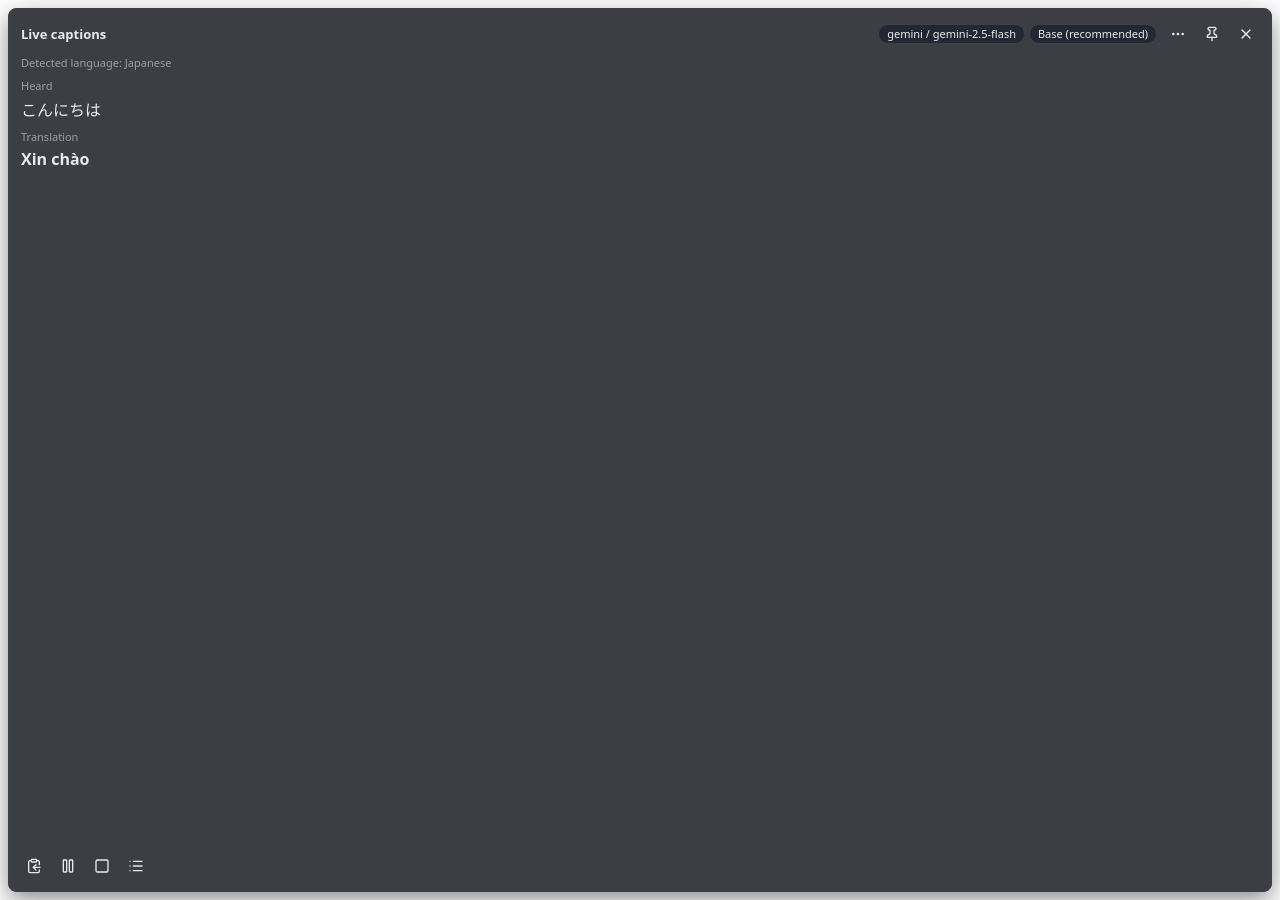
Test case: CaptionOverlayView - pause / resume / stop (item 2, owner complaint: no way to pause or stop) › pauses without closing the overlay, then resumes
Click the button named "Pause" at (68, 866), box [55,853,81,879]
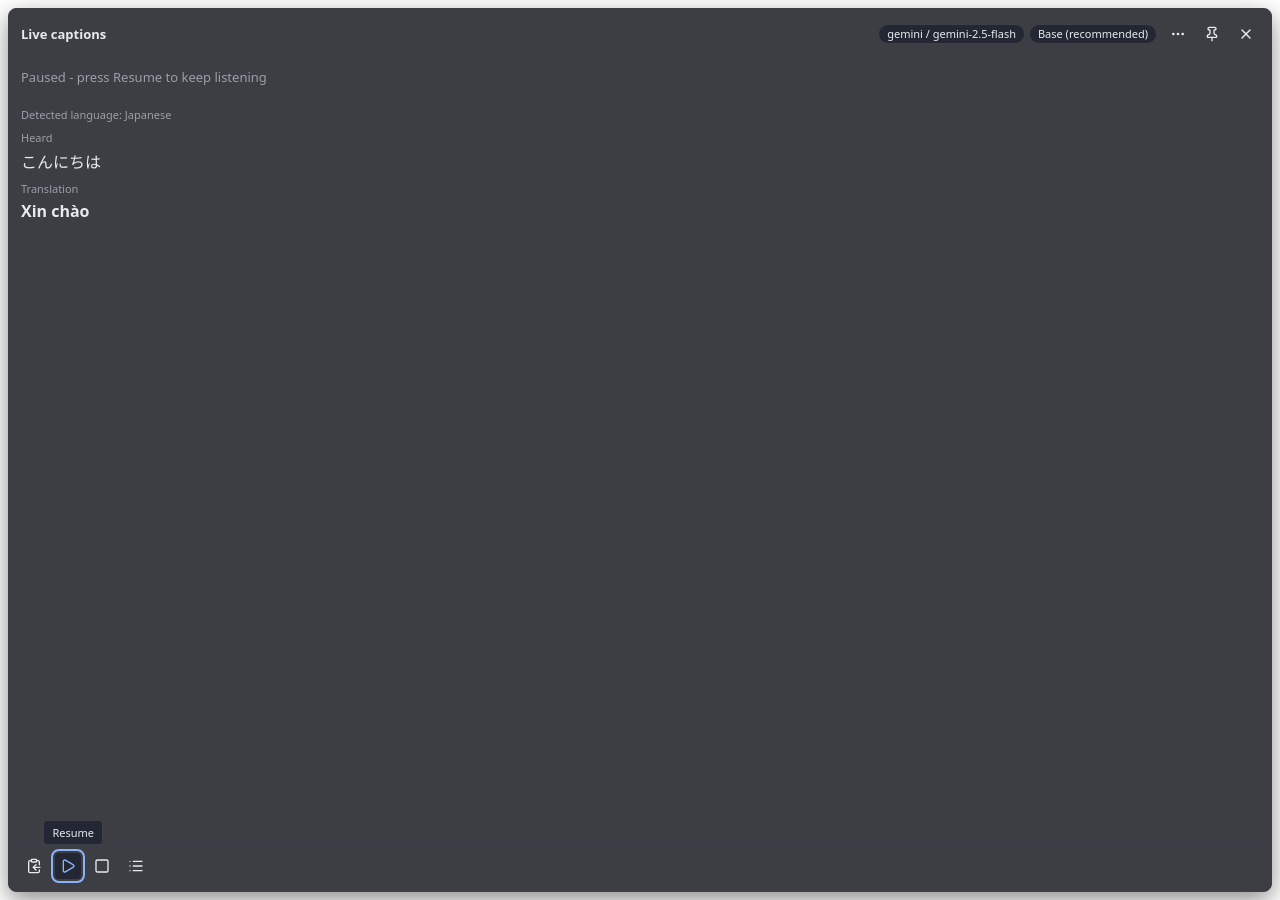
Now the text "Paused - press Resume to keep listening" is shown, box [21,68,267,86]
Click the button named "Resume" at (68, 866), box [55,853,81,879]
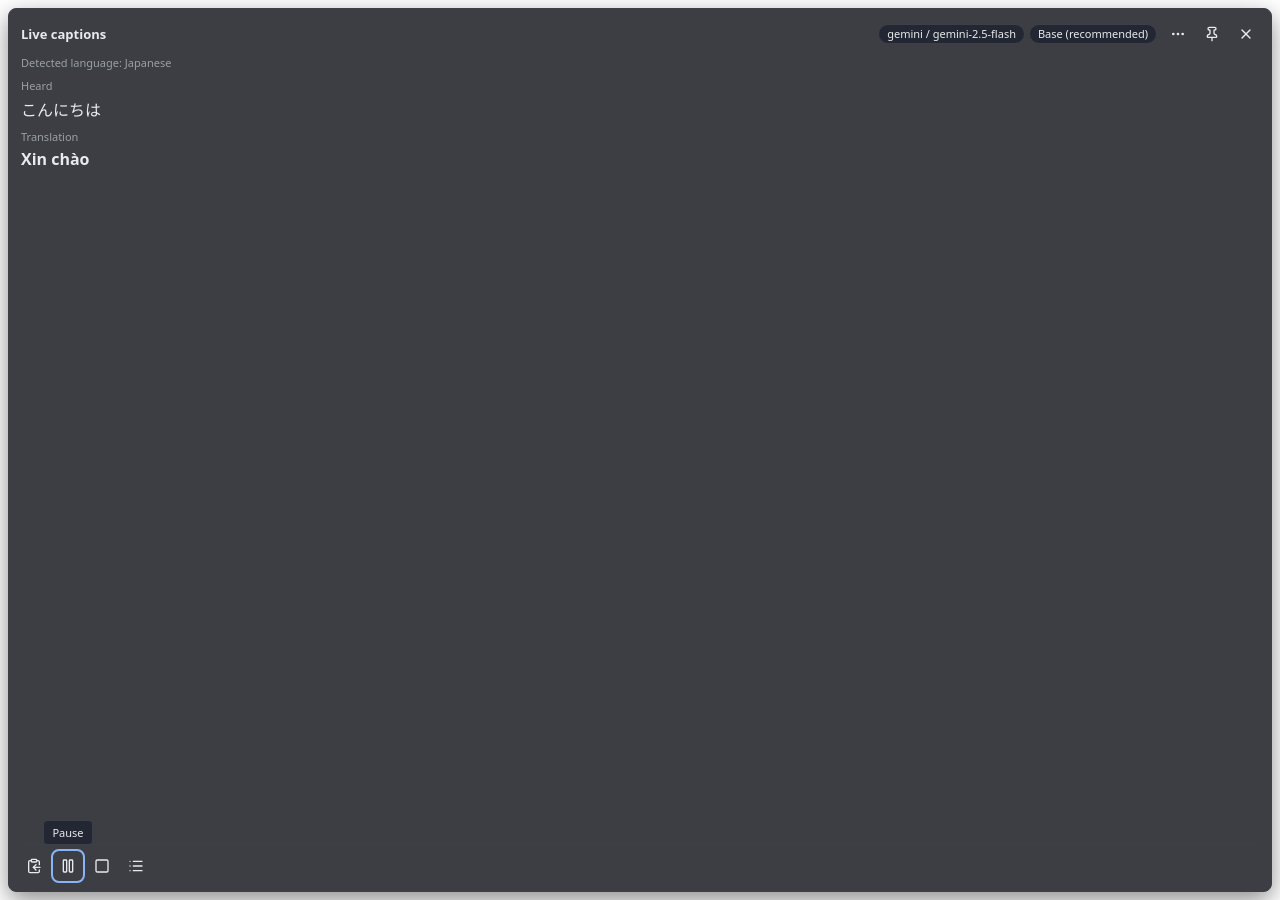
Now the text "Paused - press Resume to keep listening" is gone
